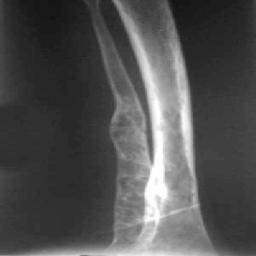cancer: (102, 100, 165, 256)
